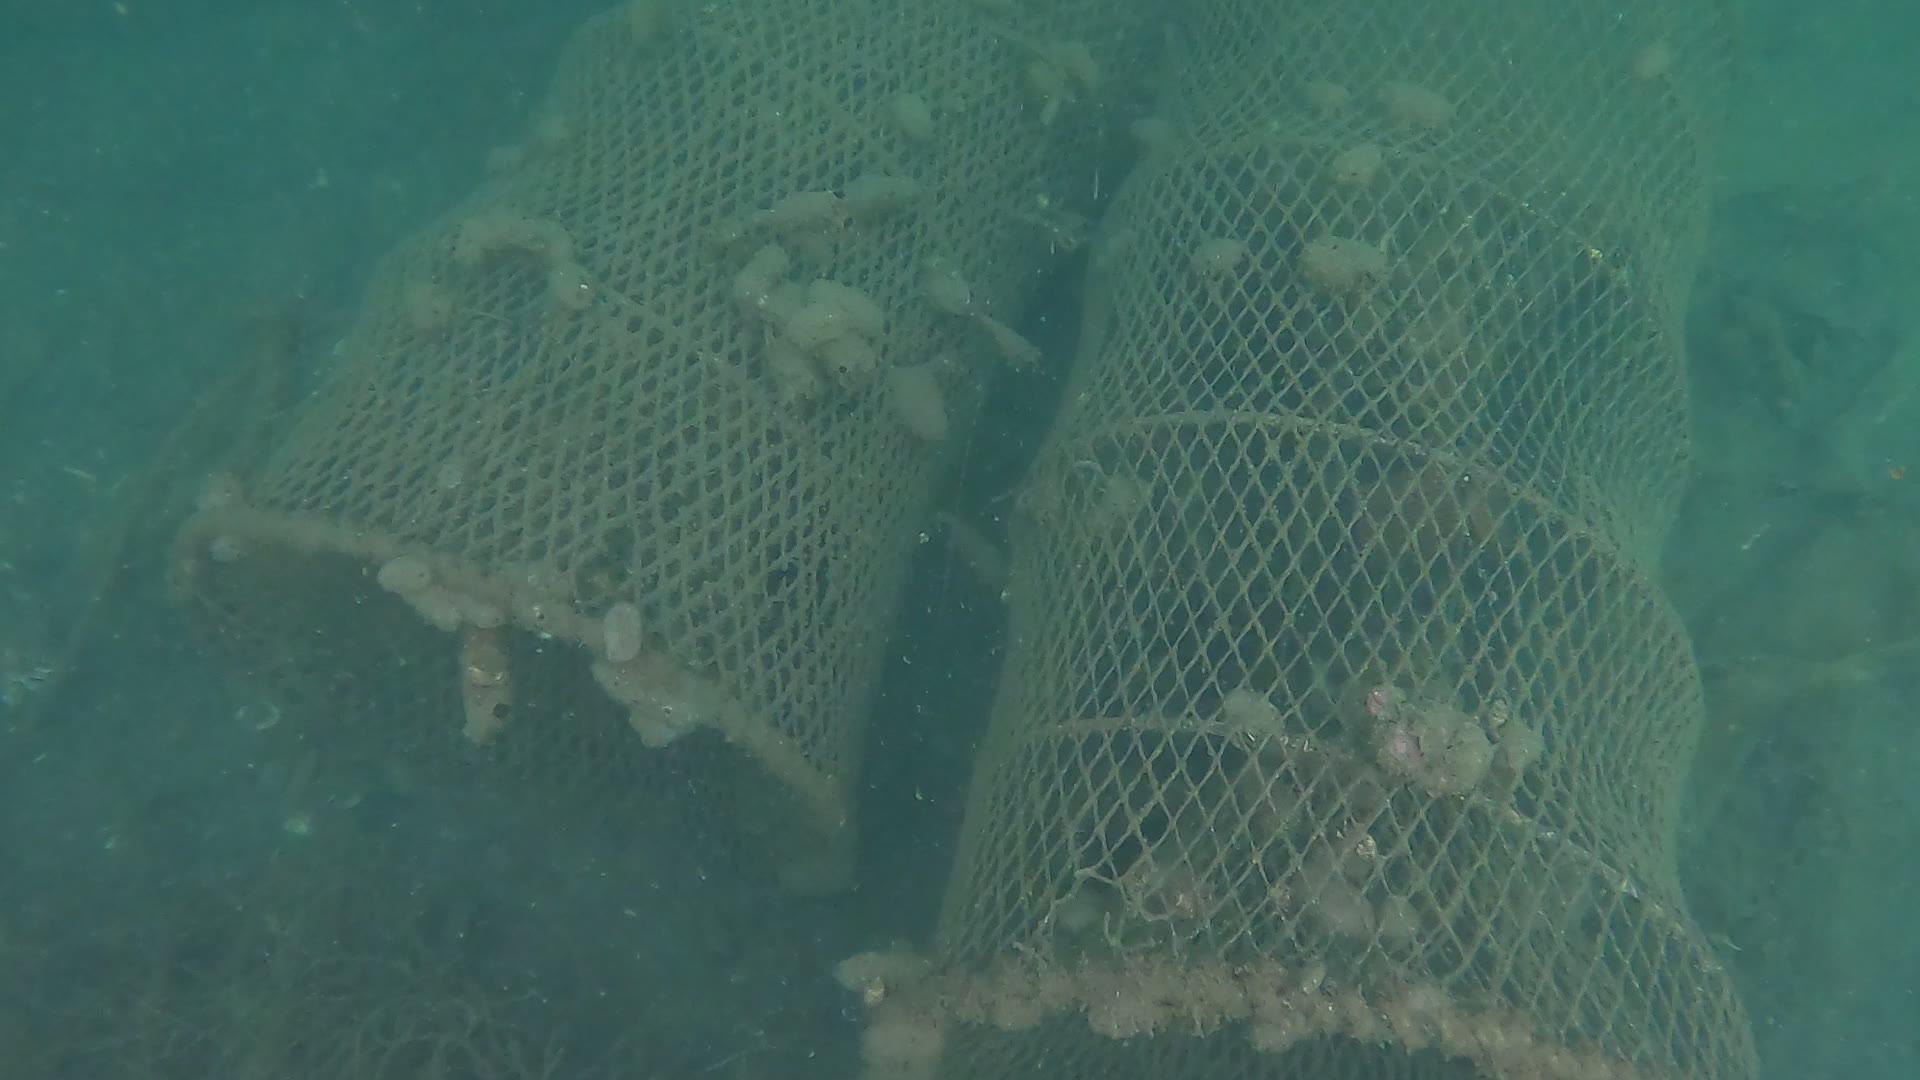spring fish trap: (880, 0, 1770, 1080), (171, 0, 1127, 886)
